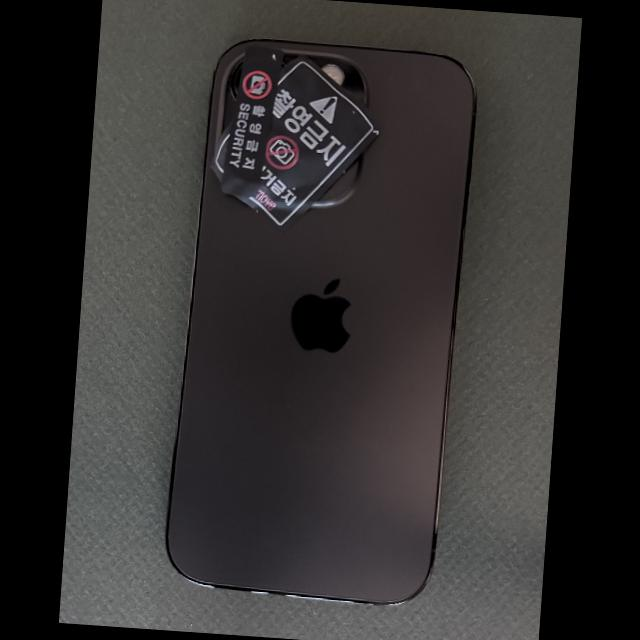lens: (229, 61, 244, 101)
phone: (168, 41, 475, 603)
sticker: (236, 55, 380, 236), (220, 45, 284, 197)
